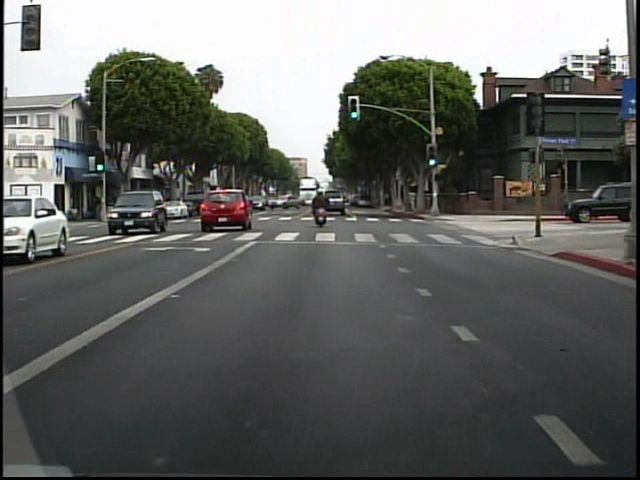person: (312, 183, 338, 230)
